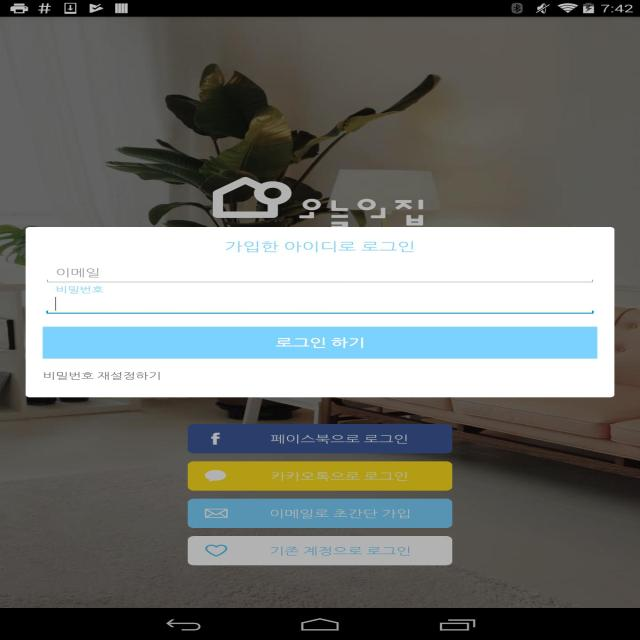button: (188, 425, 452, 455), (188, 461, 452, 491), (189, 499, 451, 527), (190, 537, 450, 564)
field: (47, 284, 595, 312), (46, 258, 596, 282)
heading: (218, 235, 422, 257)
image: (4, 17, 640, 607), (203, 174, 428, 226)
label: (43, 326, 597, 357), (52, 264, 106, 280), (51, 286, 107, 296)
text: (41, 369, 162, 383)
